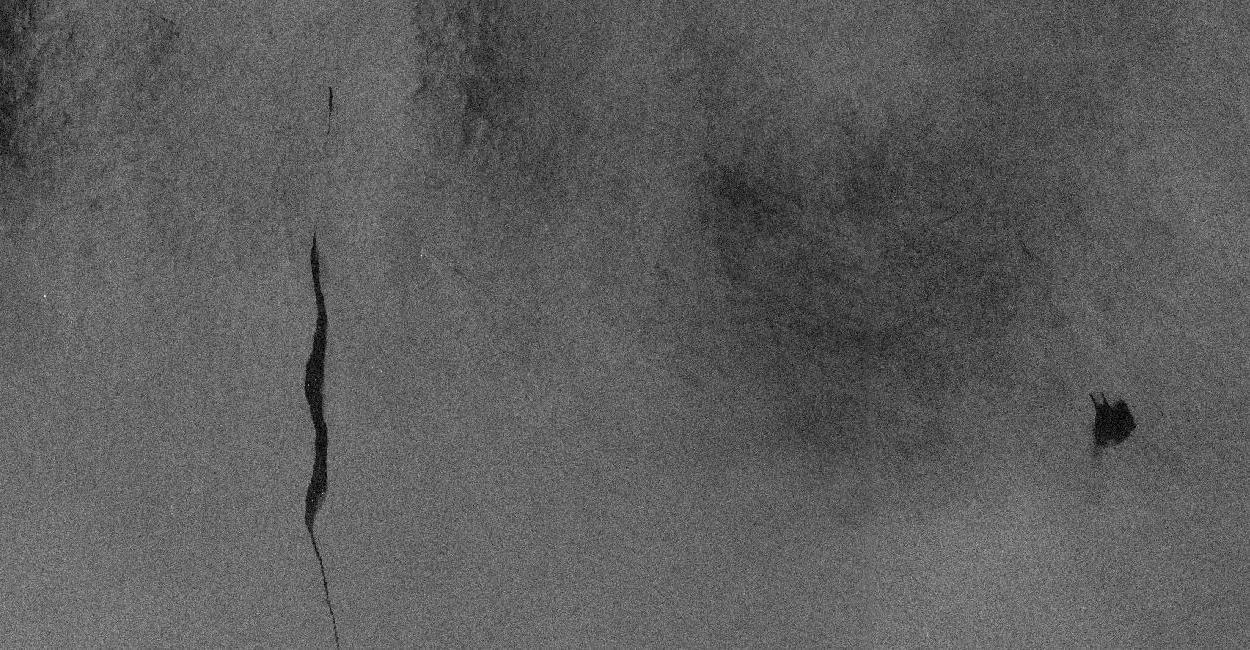Oil Spill: (302, 230, 335, 624), (1088, 390, 1138, 450)
